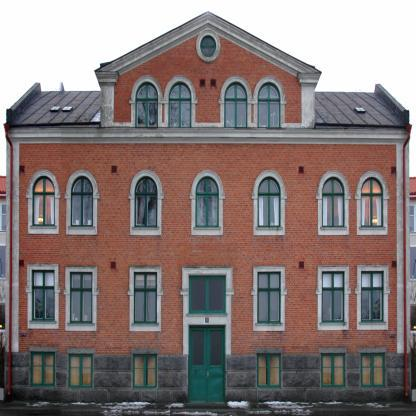Building Outline: (3, 10, 412, 403)
Cornice: (180, 266, 234, 295), (128, 169, 164, 199), (25, 263, 61, 293), (63, 266, 99, 296), (190, 169, 225, 199), (252, 169, 287, 199), (316, 169, 351, 199), (355, 170, 390, 200), (355, 265, 390, 295), (316, 265, 351, 295), (251, 266, 287, 295), (65, 169, 99, 199), (253, 75, 287, 105), (218, 75, 252, 105), (163, 74, 197, 104), (26, 169, 61, 198), (128, 266, 163, 295), (129, 75, 163, 104), (131, 347, 159, 354), (67, 348, 96, 354), (254, 348, 283, 354), (319, 347, 348, 353), (357, 347, 387, 352), (29, 346, 58, 351)
Door: (189, 325, 226, 402)
Facade: (6, 137, 410, 403)
Floor: (6, 144, 410, 249)
Floor Slab: (6, 243, 410, 250), (6, 137, 410, 144)
Ground Floor: (6, 249, 410, 403)
Roof: (11, 91, 405, 129)
Sill: (30, 321, 58, 324), (320, 323, 348, 326), (255, 323, 283, 326), (132, 323, 160, 326), (67, 324, 95, 327), (359, 227, 386, 230), (30, 226, 57, 229), (68, 226, 95, 229), (132, 227, 159, 230), (194, 227, 221, 230), (256, 227, 283, 230), (321, 227, 348, 230), (359, 322, 387, 324)
Top Floor: (113, 23, 301, 144)
Window: (189, 276, 226, 313), (195, 176, 219, 227), (257, 176, 281, 227), (257, 272, 281, 323), (70, 272, 93, 324), (322, 176, 345, 227), (32, 270, 55, 321), (134, 272, 157, 323), (322, 271, 345, 322), (361, 271, 384, 322), (361, 177, 384, 227), (32, 175, 55, 225), (135, 176, 157, 227), (71, 176, 93, 226), (257, 82, 281, 127), (135, 81, 158, 127), (224, 82, 247, 127), (169, 81, 191, 127), (68, 353, 93, 388), (31, 351, 55, 387), (257, 353, 281, 388), (133, 354, 157, 388), (321, 353, 345, 387), (361, 353, 385, 387)
